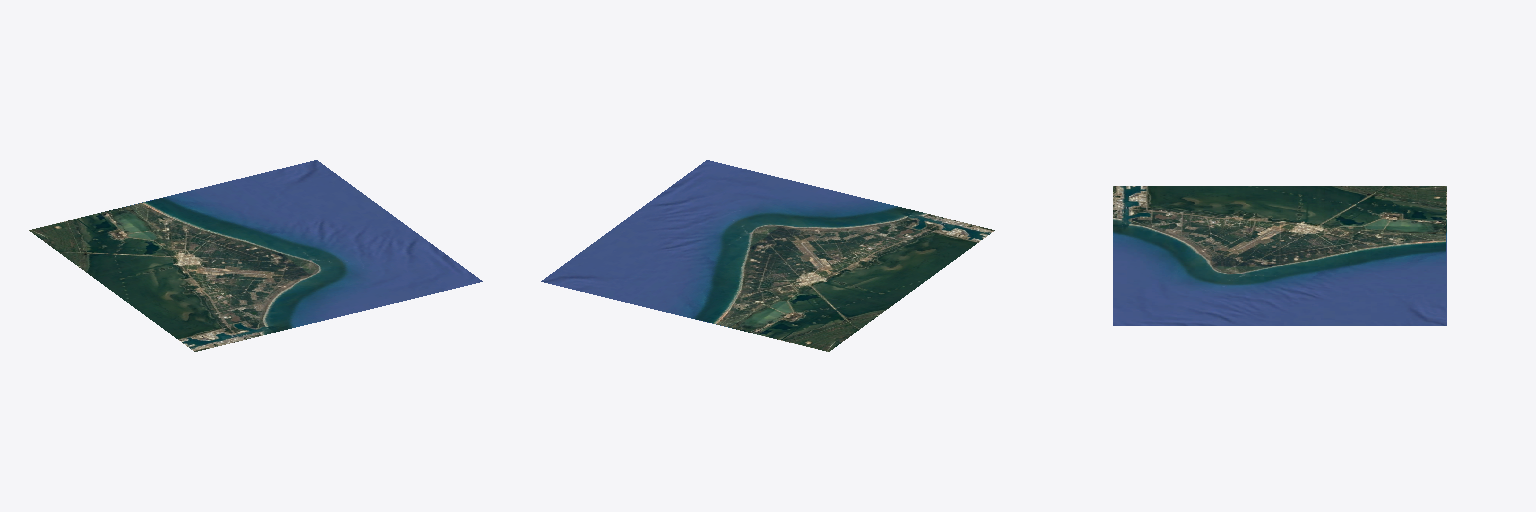
3 renders of one model, left to right at view 1: azimuth 30°, elevation 25°; view 2: azimuth 150°, elevation 25°; view 3: azimuth 270°, elevation 25°, orthographic.
Parts seen in each view (by area): view 1: Plane; view 2: Plane; view 3: Plane.
Part boxes in pixels (bbox=[...]): Plane: bbox=[29, 160, 482, 351]; Plane: bbox=[541, 160, 994, 351]; Plane: bbox=[1113, 186, 1446, 325].
Bounding box in the file's own units: 64000 × 0 × 64000.
1 materials, 1 textured.